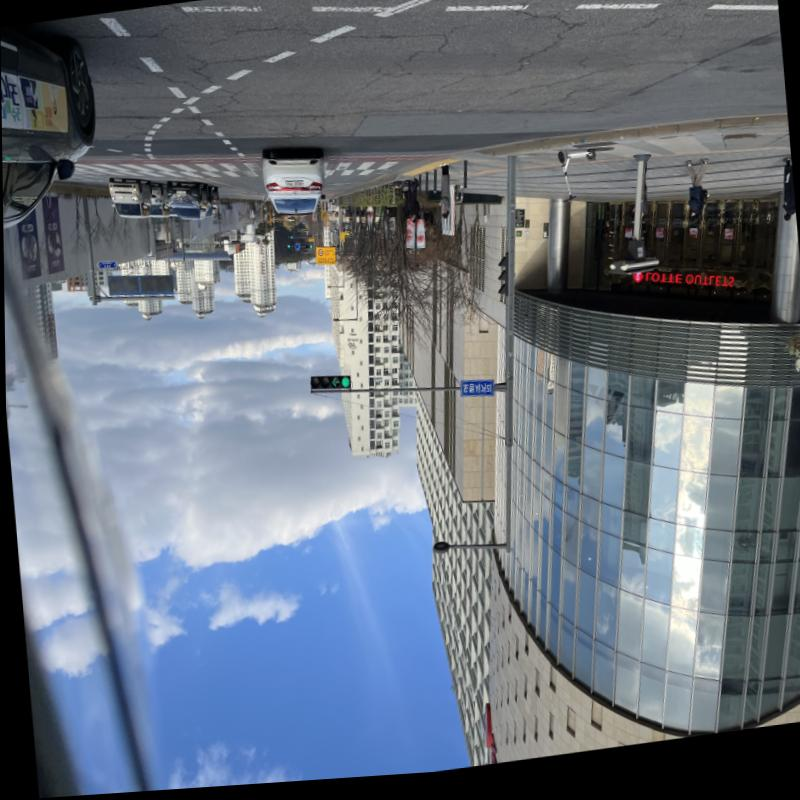green: (339, 380, 349, 392)
left: (329, 381, 339, 393)
